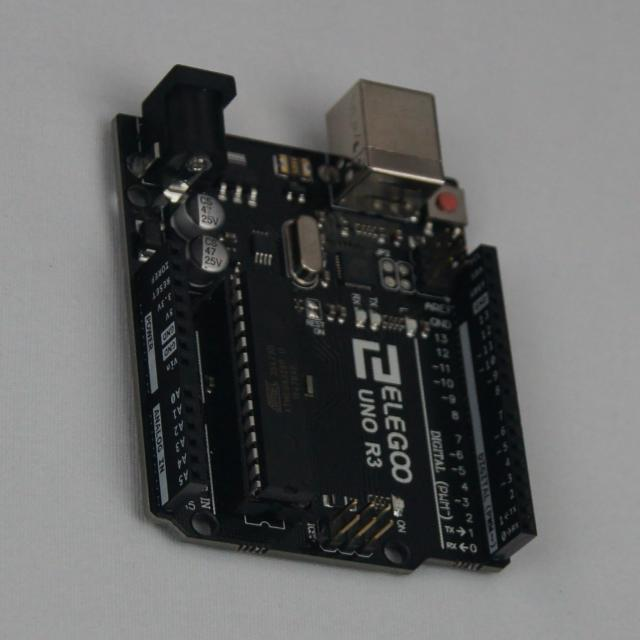Arduino Uno -Black-: (117, 67, 536, 572)
